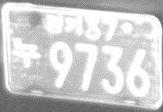3: (100, 44, 124, 95), (84, 15, 102, 41)
6: (125, 48, 151, 97)
7: (74, 42, 98, 91), (102, 15, 117, 41)
9: (48, 39, 73, 87)
경기_O: (44, 13, 82, 36)
누: (11, 36, 40, 68)
